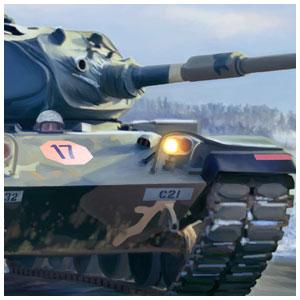Battle Tank: (3, 11, 296, 293)
